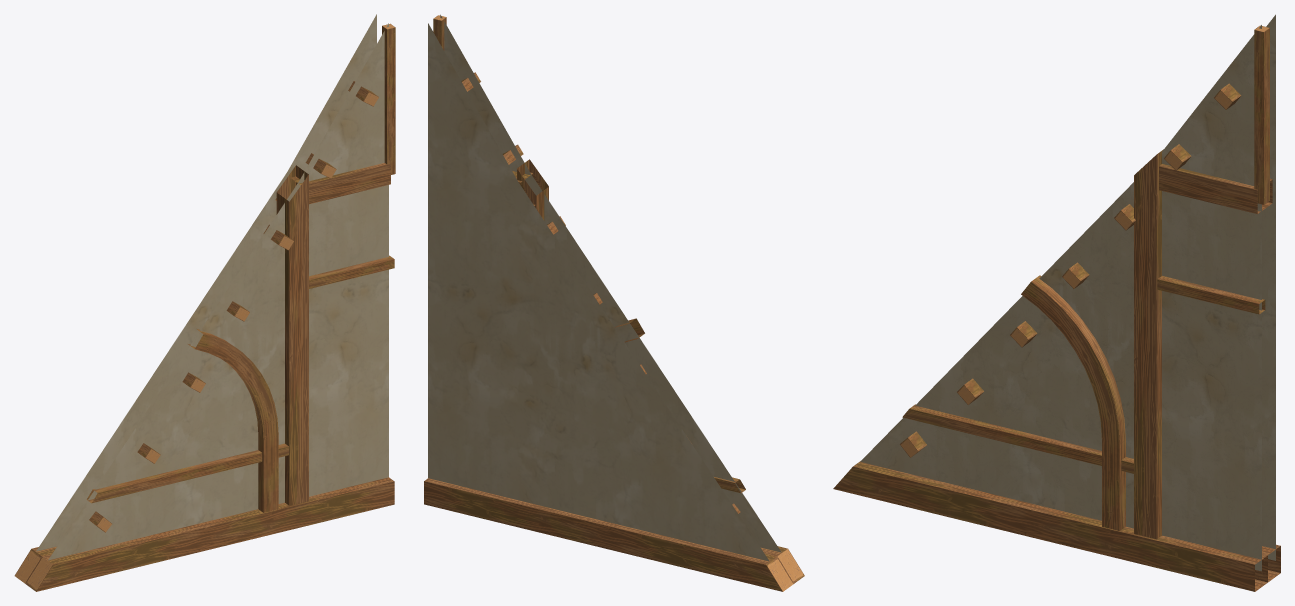
Rendered from Roof_Front_Brick8_Half_L.gltf.
3 renders of one model, left to right at view 1: azimuth 30°, elevation 25°; view 2: azimuth 150°, elevation 25°; view 3: azimuth 330°, elevation 25°, orthographic. The views are drawn at different scales.
Visible parts, largest first — view 1: Roof_Front_Brick8_Half_L; view 2: Roof_Front_Brick8_Half_L; view 3: Roof_Front_Brick8_Half_L.
Boxes of the visible parts, bbox=[...] form: Roof_Front_Brick8_Half_L: bbox=[14, 14, 395, 591]; Roof_Front_Brick8_Half_L: bbox=[424, 14, 804, 591]; Roof_Front_Brick8_Half_L: bbox=[833, 14, 1280, 591].
Bounding box in the file's own units: 4.33 × 5.45 × 0.4896.
2 materials, 2 textured.
